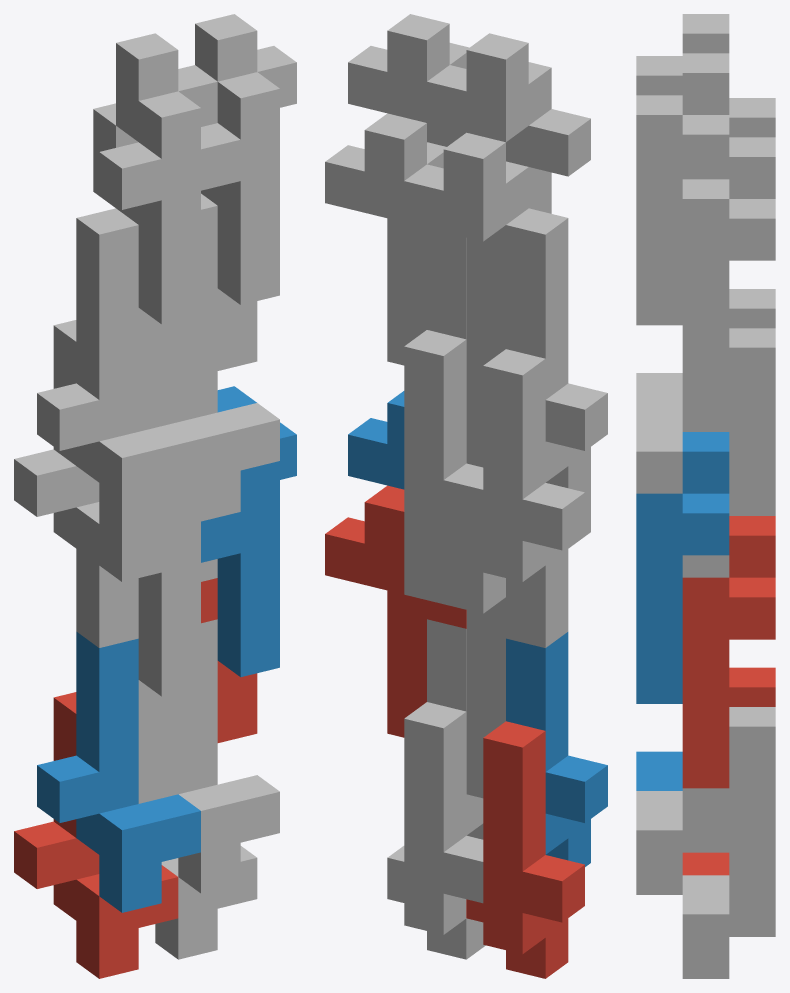
The model's file is tiling.obj.
The picture shows the model from 3 angles, left to right: view 1: azimuth 30°, elevation 25°; view 2: azimuth 150°, elevation 25°; view 3: azimuth 270°, elevation 25°; orthographic projection.
Parts seen in each view (by area): view 1: copy_1_domain_4, copy_1_domain_2, copy_2_domain_4, copy_2_domain_8, copy_1_domain_6, copy_2_domain_6, copy_1_domain_8, copy_2_domain_2, copy_1_domain_1, copy_1_domain_3, copy_2_domain_3, copy_2_domain_1 (+3 smaller); view 2: copy_1_domain_1, copy_2_domain_3, copy_1_domain_3, copy_1_domain_5, copy_2_domain_4, copy_1_domain_7, copy_2_domain_7, copy_2_domain_1, copy_2_domain_5, copy_1_domain_2, copy_1_domain_4, copy_2_domain_8 (+4 smaller); view 3: copy_2_domain_7, copy_2_domain_8, copy_2_domain_5, copy_2_domain_6, copy_1_domain_5, copy_1_domain_7, copy_1_domain_6, copy_1_domain_8, copy_2_domain_4, copy_1_domain_1, copy_2_domain_3, copy_1_domain_2 (+2 smaller).
Part boxes in pixels (box(x1,y1,x2,y2)): copy_1_domain_4: box(37, 259, 200, 540); copy_1_domain_2: box(37, 631, 200, 912); copy_2_domain_4: box(99, 33, 217, 324); copy_2_domain_8: box(195, 14, 296, 304); copy_1_domain_6: box(138, 619, 279, 893); copy_2_domain_6: box(201, 386, 296, 677); copy_1_domain_8: box(138, 247, 279, 521); copy_2_domain_2: box(99, 480, 200, 696); copy_1_domain_1: box(14, 692, 178, 978); copy_1_domain_3: box(14, 320, 138, 606); copy_2_domain_3: box(76, 103, 178, 390); copy_2_domain_1: box(76, 590, 178, 762); copy_1_domain_1: box(466, 721, 584, 978); copy_2_domain_3: box(404, 132, 568, 384); copy_1_domain_3: box(483, 349, 584, 606); copy_1_domain_5: box(387, 702, 485, 959); copy_2_domain_4: box(427, 33, 590, 213); copy_1_domain_7: box(404, 330, 483, 562); copy_2_domain_7: box(325, 113, 466, 365); copy_2_domain_1: box(404, 521, 568, 756); copy_2_domain_5: box(325, 485, 466, 737); copy_1_domain_2: box(506, 632, 607, 866); copy_1_domain_4: box(506, 259, 607, 494); copy_2_domain_8: box(348, 14, 469, 146); copy_2_domain_7: box(682, 137, 775, 409); copy_2_domain_8: box(636, 53, 729, 325); copy_2_domain_5: box(682, 516, 775, 788); copy_2_domain_6: box(636, 432, 729, 703); copy_1_domain_5: box(682, 707, 775, 978); copy_1_domain_7: box(682, 328, 775, 577); copy_1_domain_6: box(636, 788, 729, 894); copy_1_domain_8: box(636, 409, 729, 493); copy_2_domain_4: box(636, 14, 729, 95); copy_1_domain_1: box(682, 667, 775, 875); copy_2_domain_3: box(682, 98, 775, 179); copy_1_domain_2: box(636, 751, 682, 790).
Size of the model in its own units: 6 by 22 by 3.
